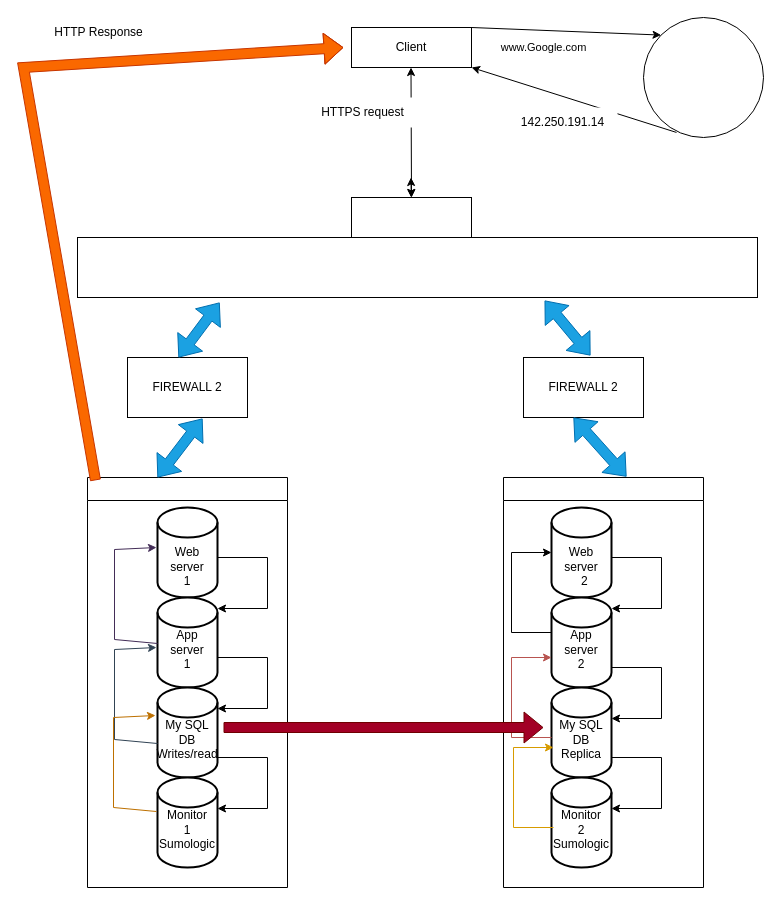
Some shapes in this 781 by 905 pixel diagram are drawn without their labels. Here are the shapes that lost their labels. From the top down, the box of each, then its label:
(642, 16, 764, 138): DNS
(350, 196, 472, 238): Firewall 1
(76, 236, 758, 298): LOAD BALANCER SSL Certificates
(86, 476, 288, 888): Server 1
(502, 476, 704, 888): Server 2
